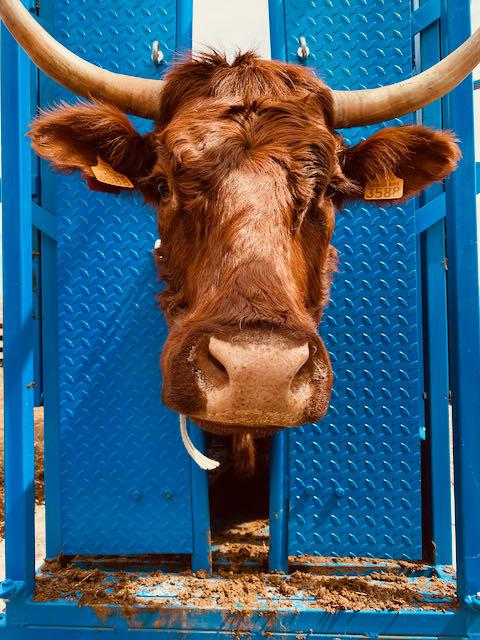muzzles: (155, 320, 338, 442)
